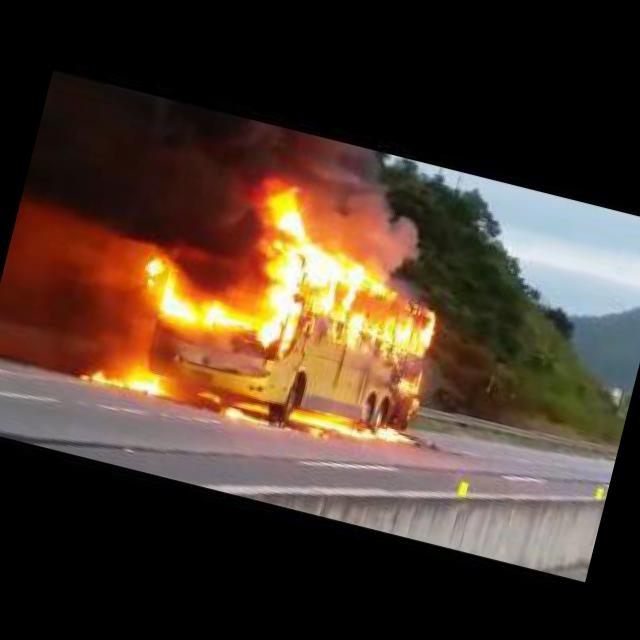fire: (232, 182, 458, 386), (128, 257, 246, 340), (292, 402, 418, 448), (68, 352, 176, 403), (390, 366, 426, 414), (221, 404, 274, 428), (232, 396, 270, 414), (194, 388, 220, 402)
